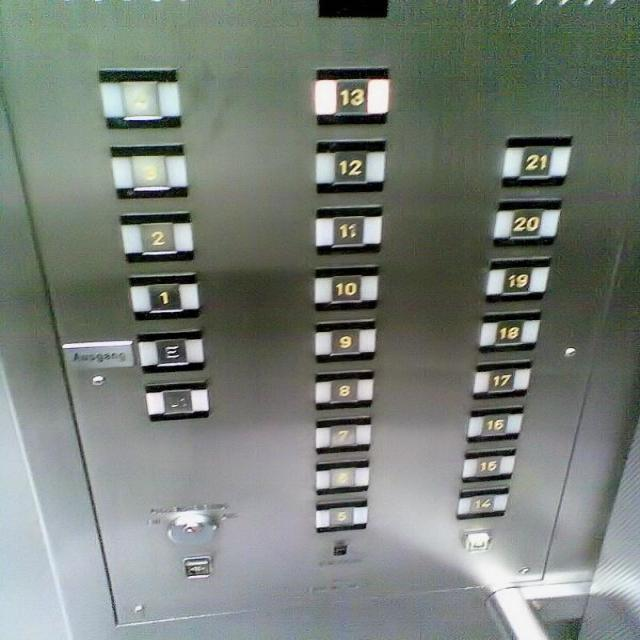1: (122, 270, 202, 320)
10: (309, 262, 382, 313)
11: (310, 201, 385, 256)
12: (310, 137, 388, 194)
13: (306, 63, 396, 127)
14: (453, 485, 511, 521)
15: (459, 447, 516, 482)
16: (464, 404, 526, 443)
17: (469, 358, 534, 400)
18: (476, 306, 543, 354)
19: (480, 253, 551, 302)
2: (115, 208, 198, 264)
20: (489, 194, 563, 248)
21: (496, 130, 574, 188)
3: (103, 140, 191, 202)
4: (90, 66, 184, 130)
5: (312, 498, 371, 534)
6: (311, 458, 370, 496)
7: (312, 413, 374, 454)
8: (312, 367, 374, 410)
9: (310, 317, 378, 364)
E: (133, 326, 206, 376)
U1: (142, 380, 211, 422)
alarm: (455, 525, 494, 555)
keyhole: (158, 509, 221, 549)
open: (177, 551, 216, 582)
